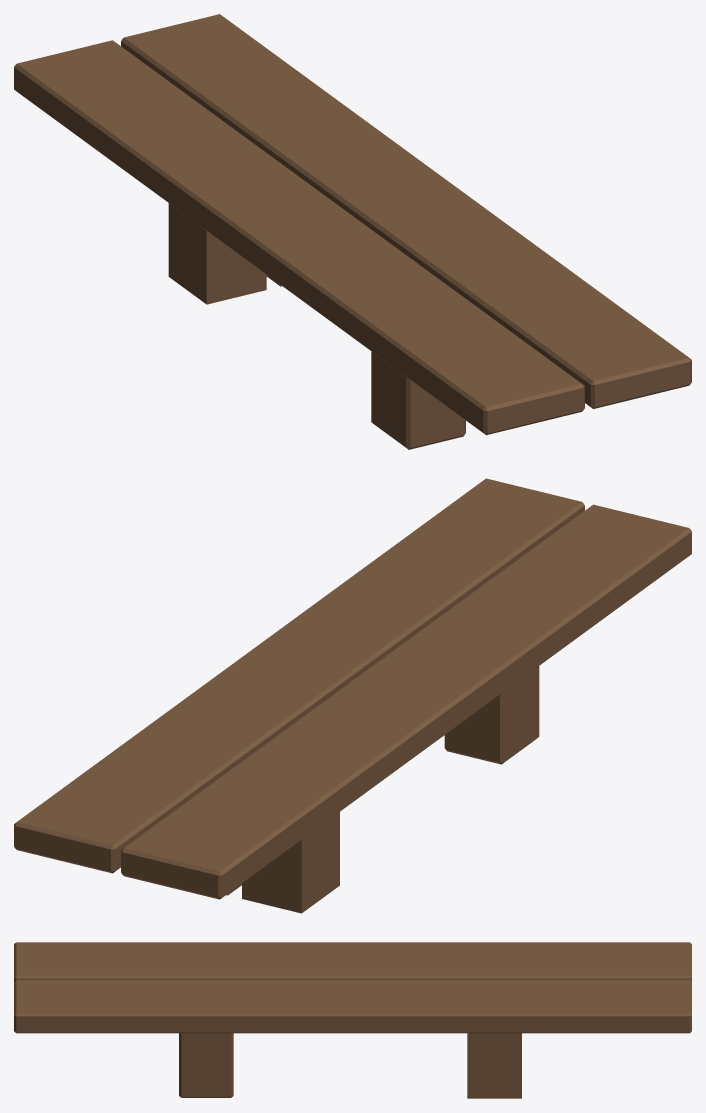
The model's file is Bench.fbx.
3 renders of one model, top to bottom at view 1: azimuth 30°, elevation 25°; view 2: azimuth 150°, elevation 25°; view 3: azimuth 270°, elevation 25°, orthographic. The views are drawn at different scales.
Parts seen in each view (by area): view 1: Bench; view 2: Bench; view 3: Bench.
Part boxes in pixels (left/top/right/bottom): Bench: left=14, top=14, right=691, bottom=449; Bench: left=14, top=478, right=691, bottom=913; Bench: left=14, top=942, right=691, bottom=1098.
Size of the model in its own units: 234 by 146 by 917.
